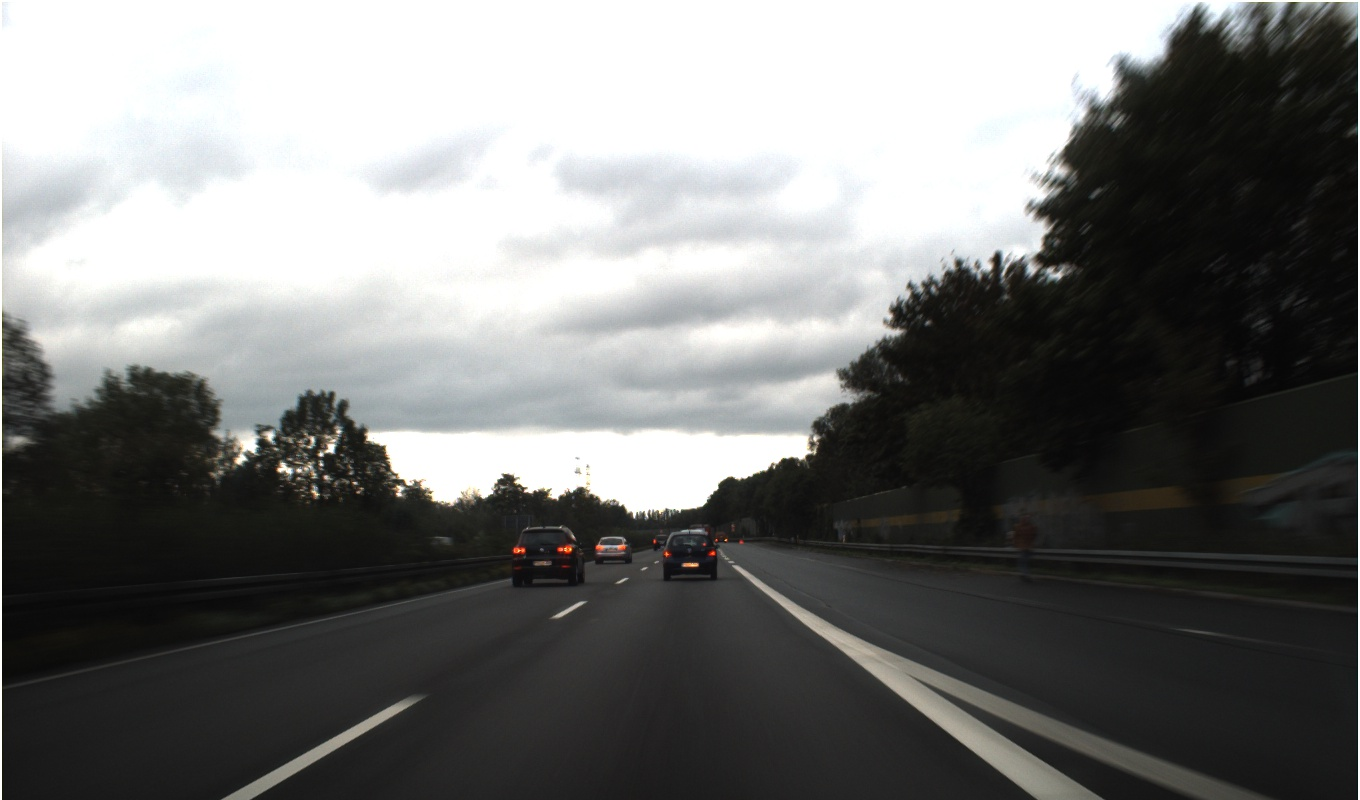car: (510, 523, 584, 608), (666, 527, 720, 597), (592, 525, 641, 576), (652, 519, 672, 567), (677, 520, 712, 537), (715, 525, 730, 549)
